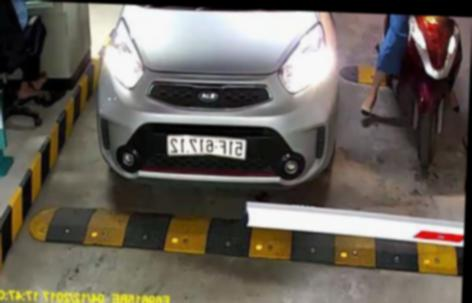License_Plate: (166, 130, 248, 163)
